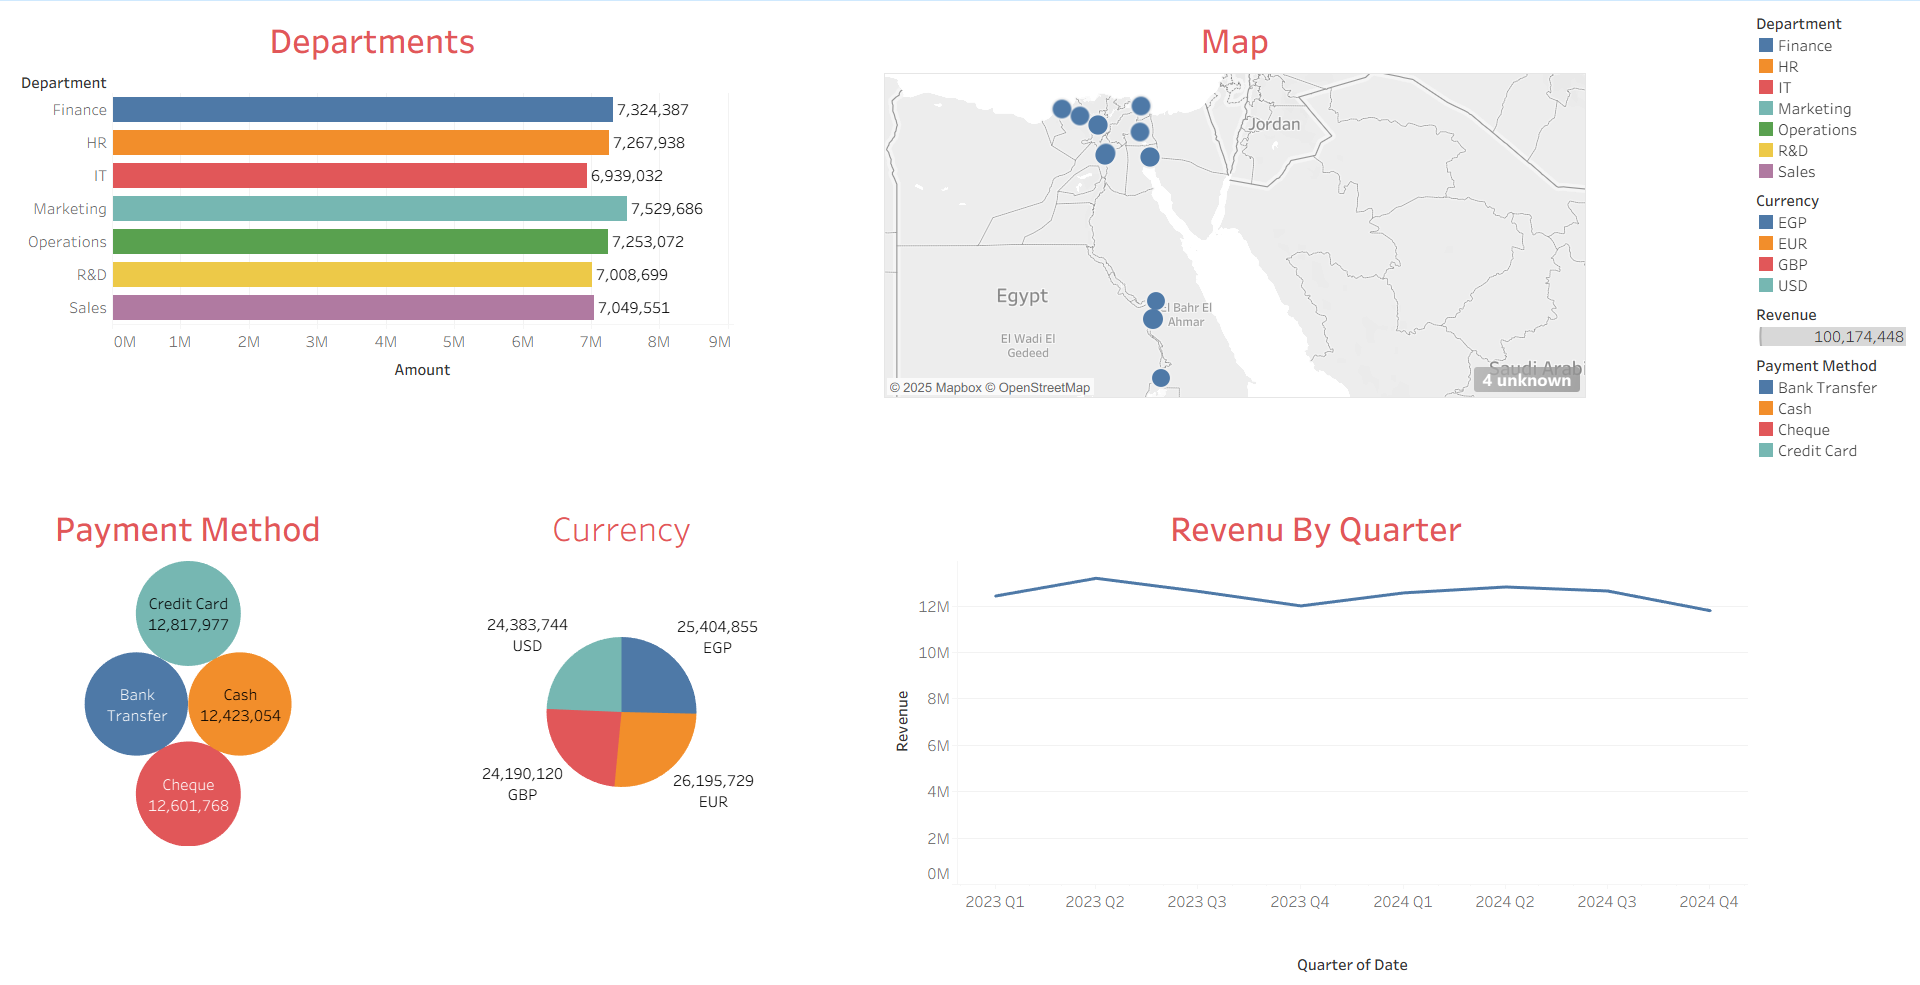

What the dashboard file says about the page in this screenshot:
{"tool":"tableau","page":{"name":"Finance Dashboard","canvas":[1000,1000],"units":"permille","ordinal":0},"visuals":[{"type":"worksheet","title":"Departments","mark":"Automatic","rows":["Department"],"cols":["Amount"],"box":[4.8,10,446.8,489.9]},{"type":"worksheet","title":"Map","mark":"Automatic","box":[451.7,10,446.9,489.9]},{"type":"legend","title":"Departments","param":"[federated.0ck9a0i0ydhal61fq7jsv1xlnxa7].[none:Department:nk]","box":[898.6,10,96.6,221]},{"type":"legend","title":"Currency","param":"[federated.0ck9a0i0ydhal61fq7jsv1xlnxa7].[none:Currency:nk]","box":[898.6,231,96.6,142.3]},{"type":"legend","title":"Currency","param":"[federated.0ck9a0i0ydhal61fq7jsv1xlnxa7].[sum:Revenue:qk]","box":[898.6,373.3,96.6,63.7]},{"type":"legend","title":"Payment Method","param":"[federated.0ck9a0i0ydhal61fq7jsv1xlnxa7].[none:Payment Method:nk]","box":[898.6,437,96.6,142.3]},{"type":"worksheet","title":"Payment Method","mark":"Circle","box":[4.8,499.9,223.4,490.1]},{"type":"worksheet","title":"Currency","mark":"Pie","box":[228.2,499.9,223.5,490.1]},{"type":"worksheet","title":"Date","mark":"Automatic","rows":["Revenue"],"cols":["Date"],"box":[451.7,499.9,446.9,490.1]}]}

Visuals, with their boxes on the dashboard's canvas, which has no fixed pixel size, in thousandths of its width and height (x1, y1, x2, y2). These are canvas units, not pixel positions in the 1920x985 screenshot, which may show the page scaled, cropped or inside an application window:
"Departments" worksheet: 5,10,452,500
"Map" worksheet: 452,10,899,500
"Departments" legend: 899,10,995,231
"Currency" legend: 899,231,995,373
"Currency" legend: 899,373,995,437
"Payment Method" legend: 899,437,995,579
"Payment Method" worksheet (Circle marks): 5,500,228,990
"Currency" worksheet (Pie marks): 228,500,452,990
"Date" worksheet: 452,500,899,990
